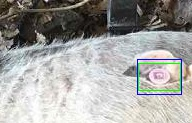text: (138, 63, 180, 90)
